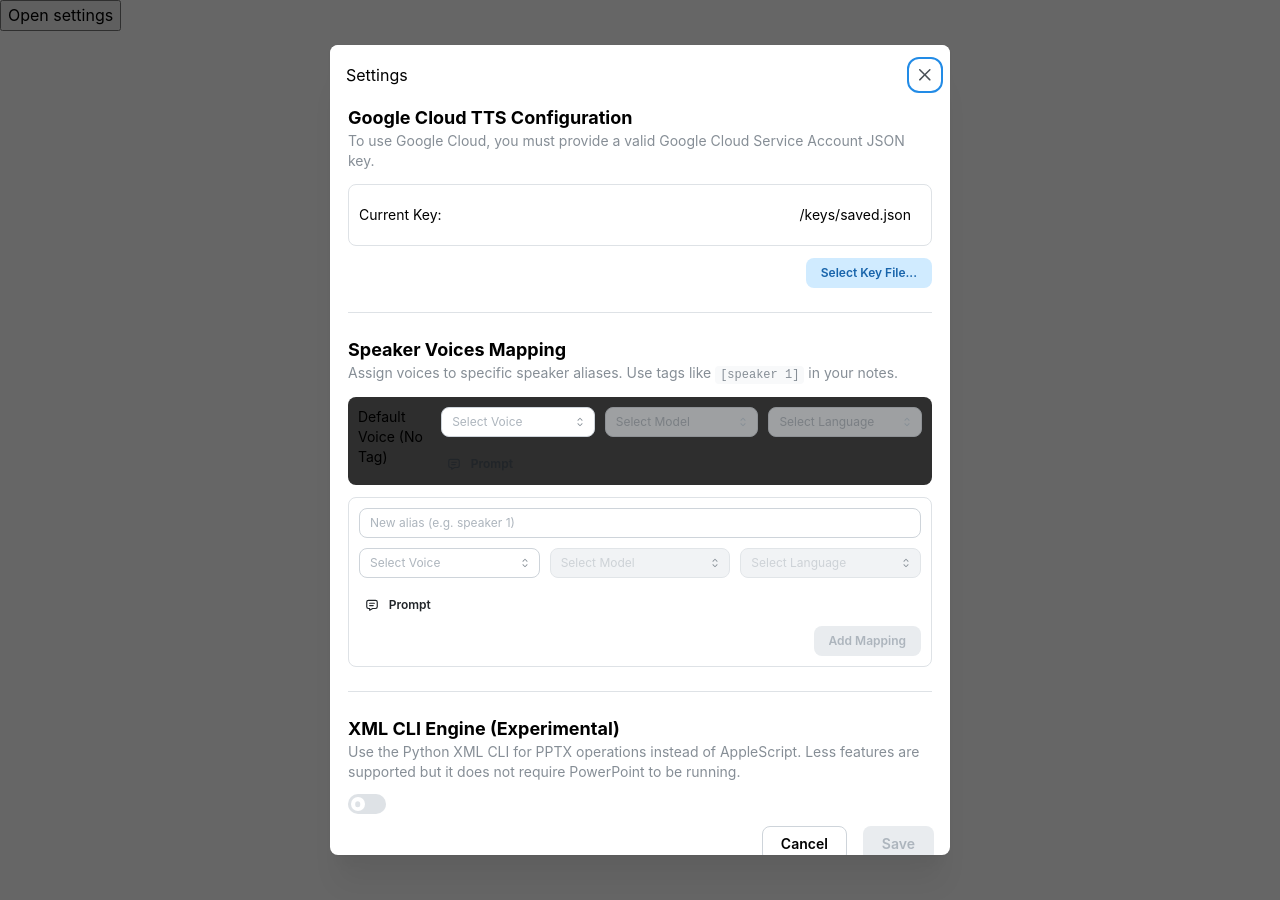
Test: clears an unfinished new speaker when a newly selected key replaces the voices
In the field with placeholder "New alias (e.g. speaker 1)": x=640, y=523 [359,508,921,538], type "Narrator"
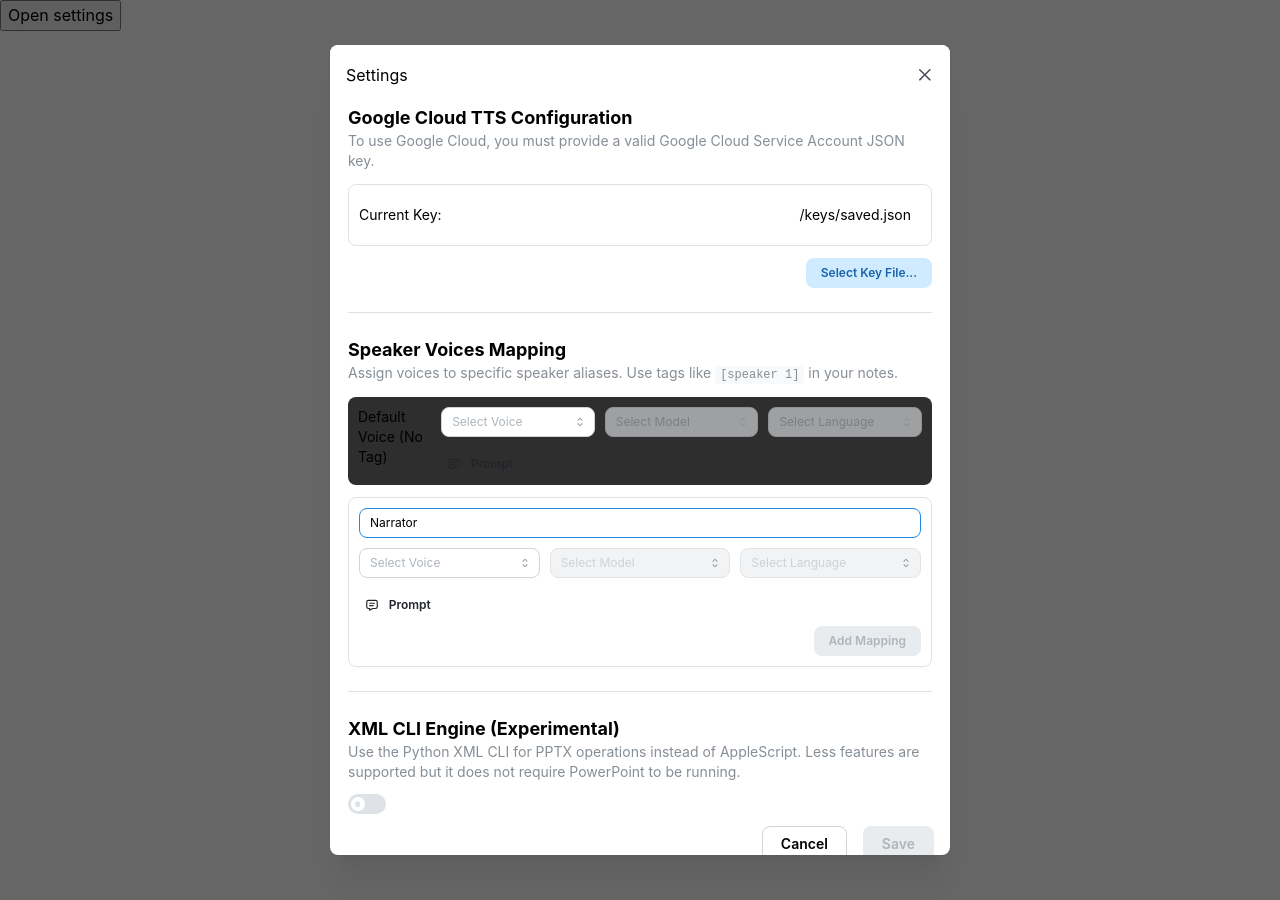
Click the dropdown named "Voice for new speaker": x=449, y=563 [359,548,540,578]
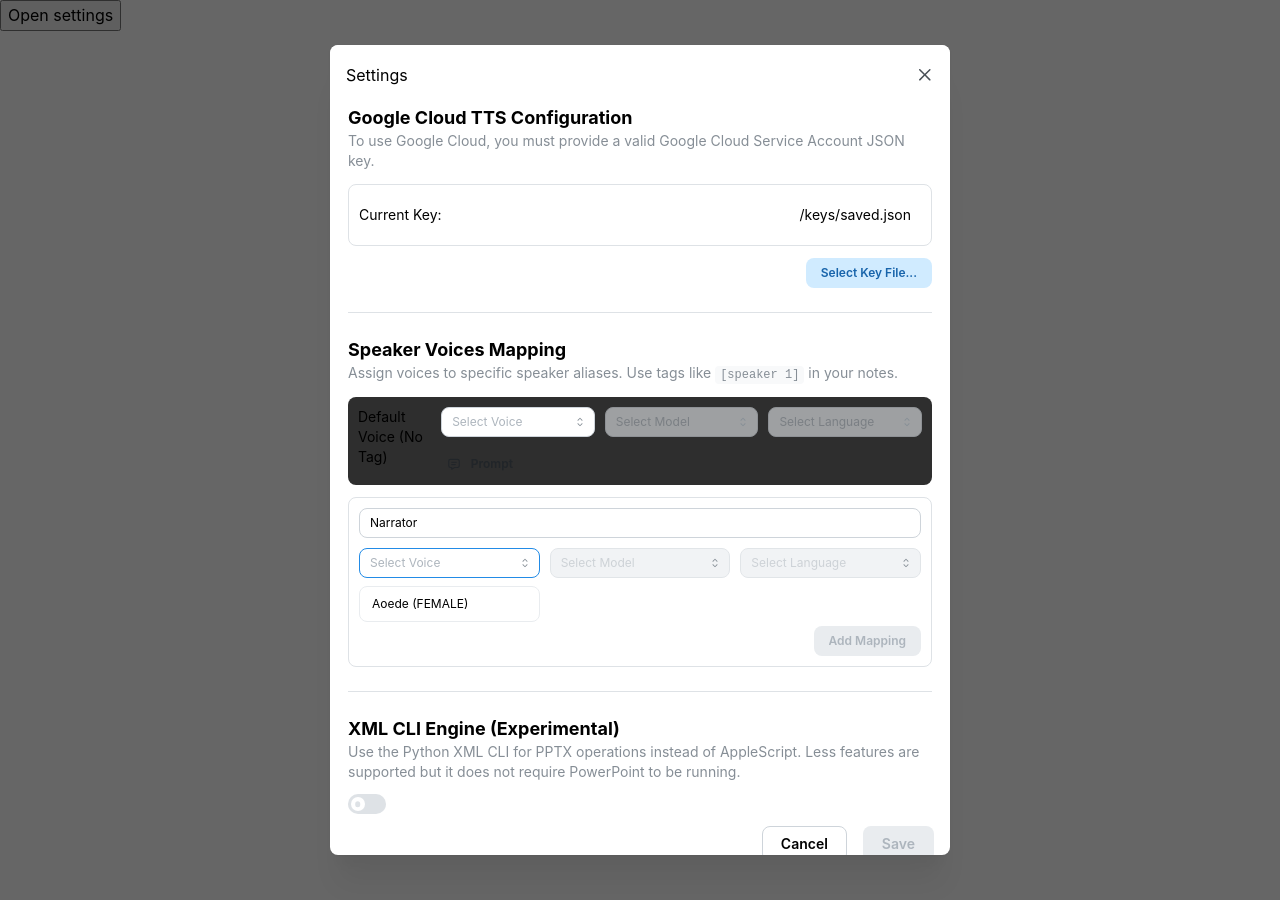
Click the option "Aoede (FEMALE)": x=420, y=603 [372,596,468,611]
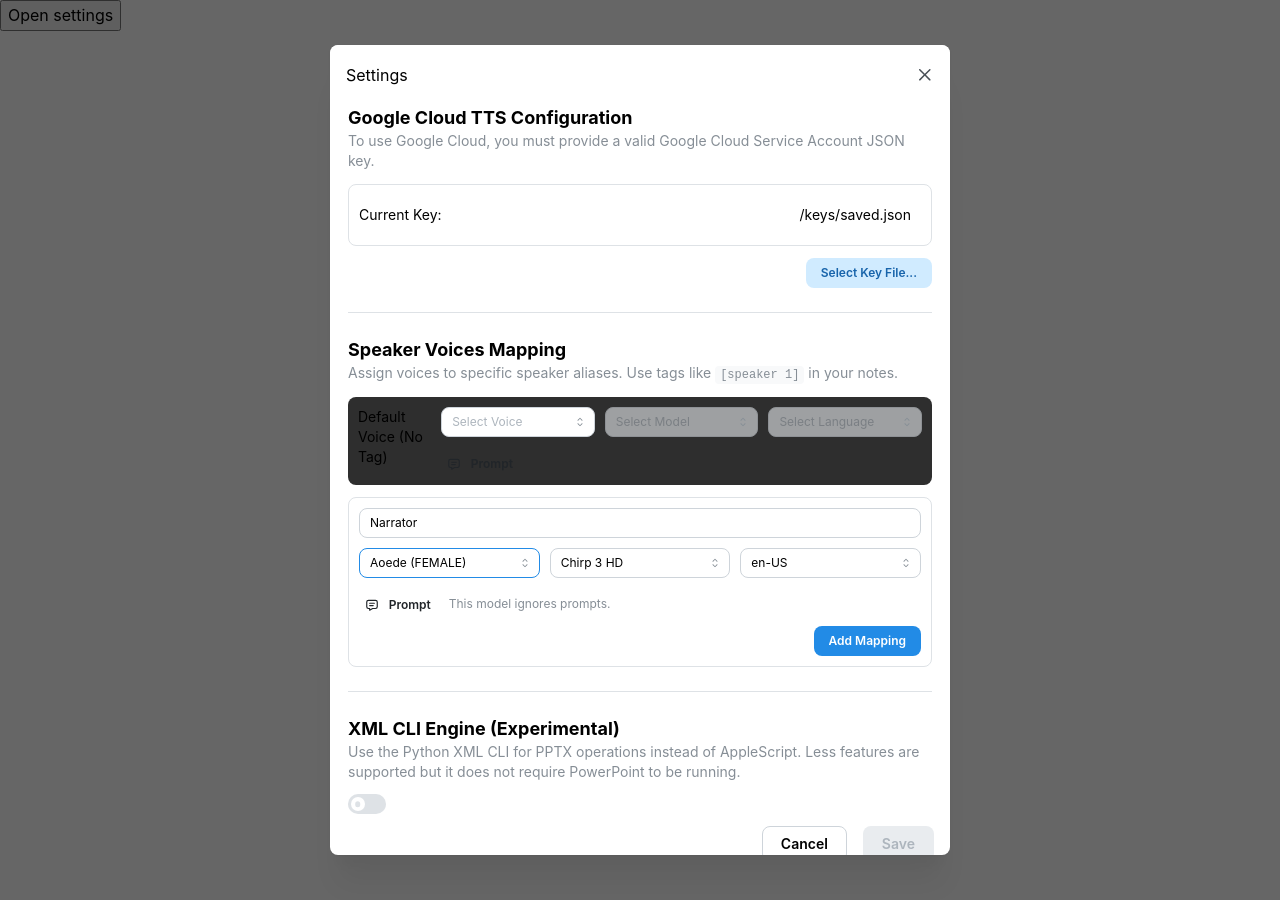
Click the button "Select Key File...": x=869, y=273 [806,258,932,288]
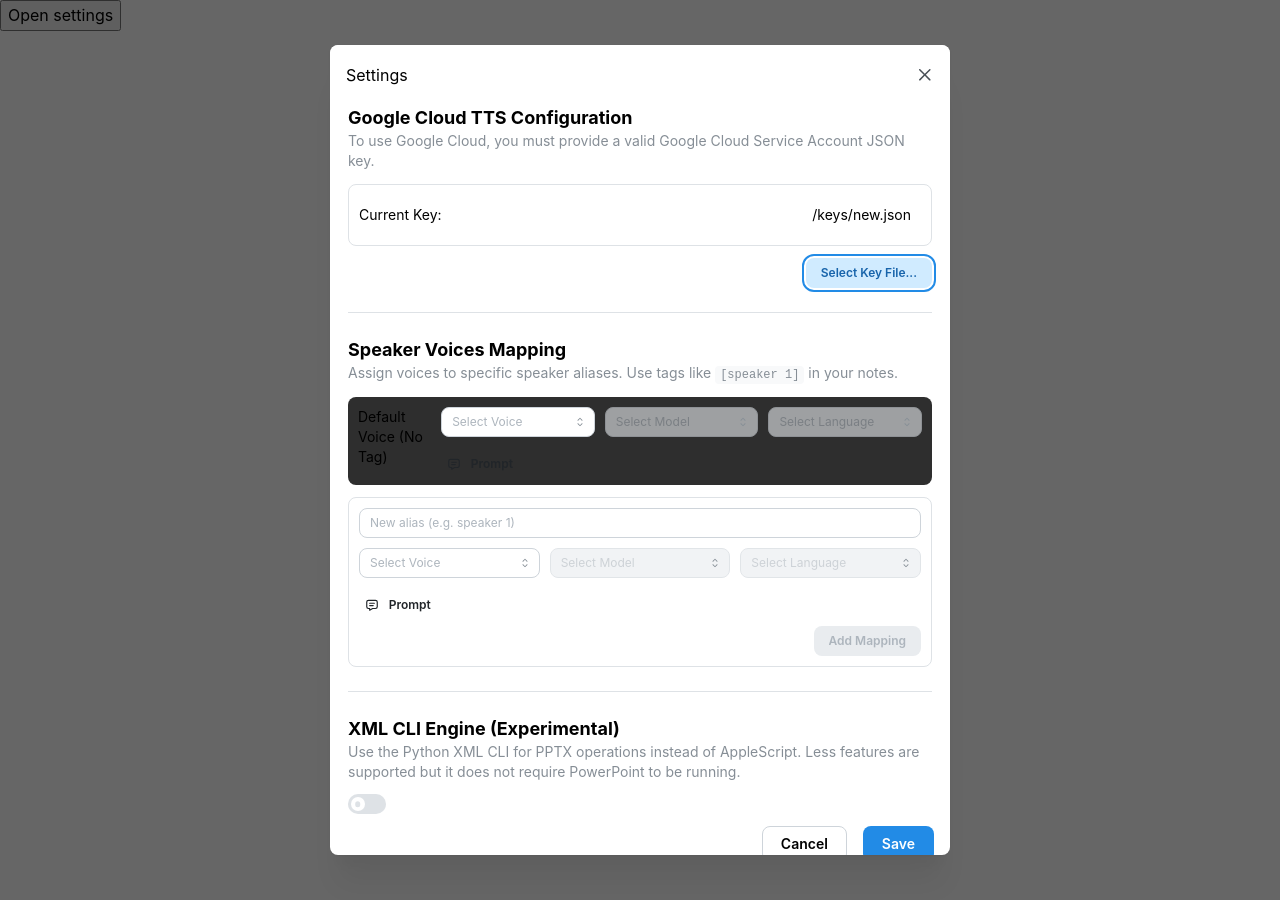
Result: the dropdown named "Voice for new speaker" is empty at [359,548,540,578]
Result: the button "Add Mapping" is disabled at [814,626,921,656]
